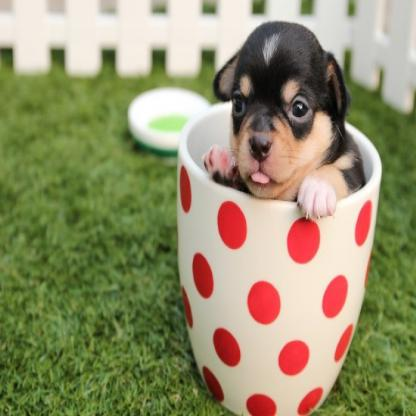dog: (206, 7, 372, 246)
